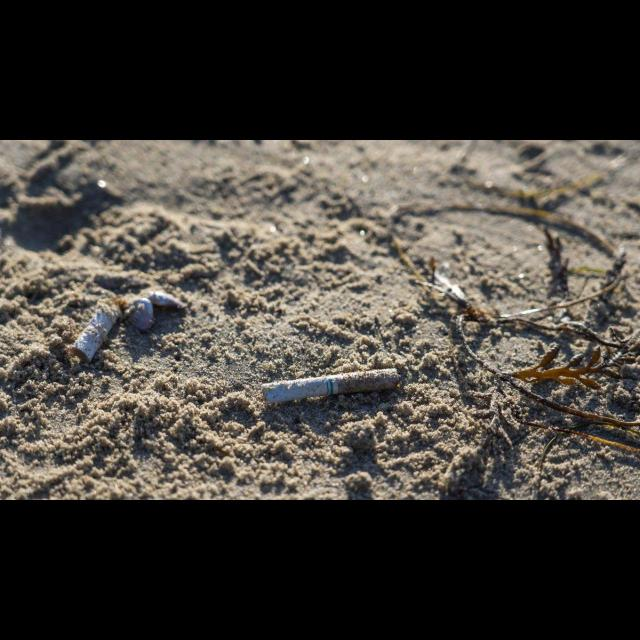cigarette: (262, 368, 401, 403), (74, 298, 121, 362)
